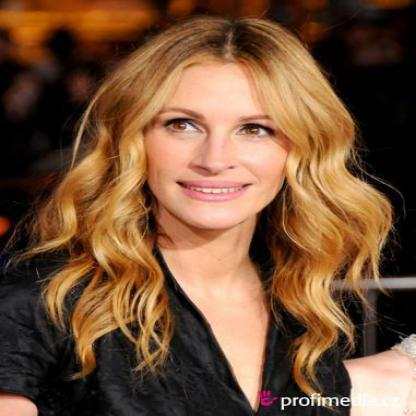long-hair: (16, 229, 398, 294)
